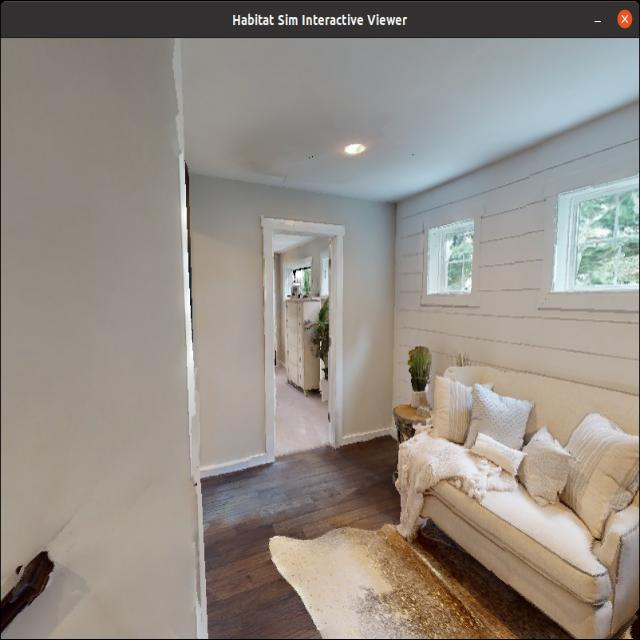door-frame: (257, 213, 350, 456)
sofa: (401, 341, 640, 635)
